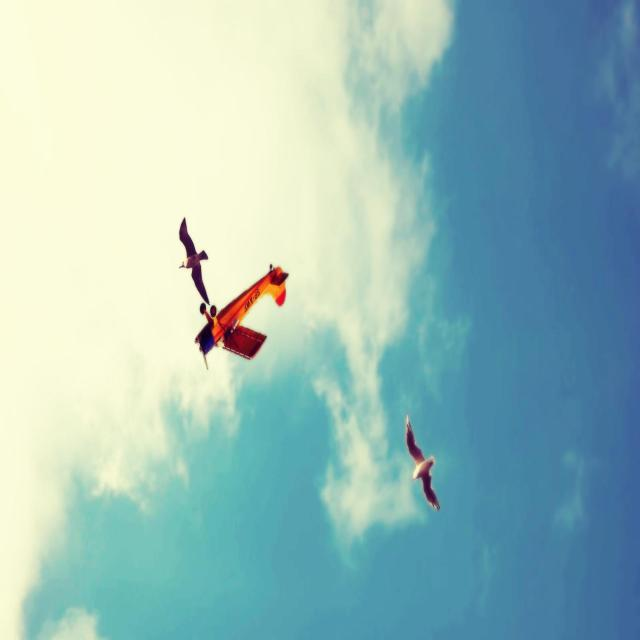airplane: (194, 265, 289, 370)
